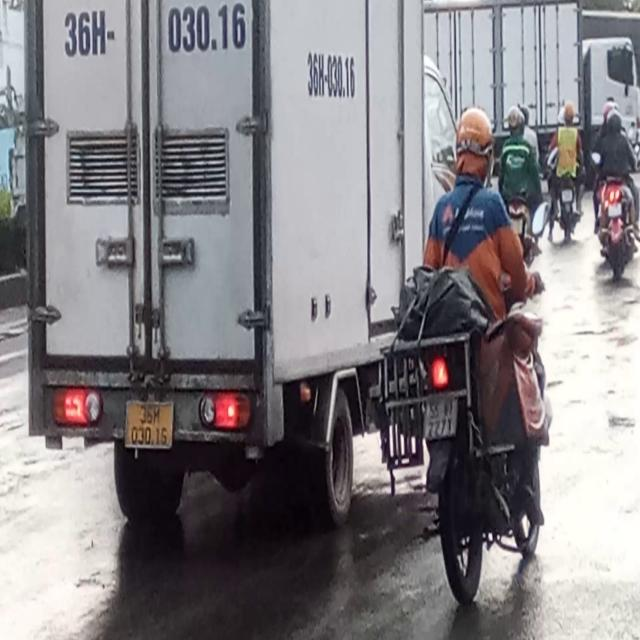bien_trang: (421, 396, 463, 445)
bien_vang: (124, 397, 178, 451)
